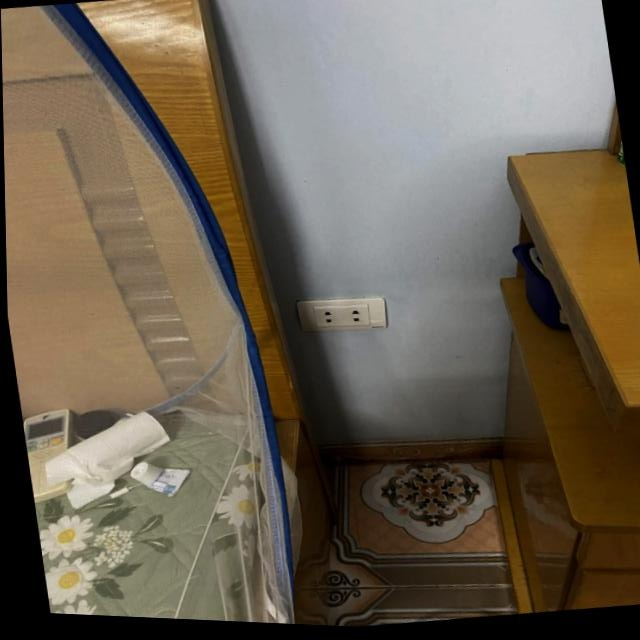outlet: (296, 289, 390, 338)
